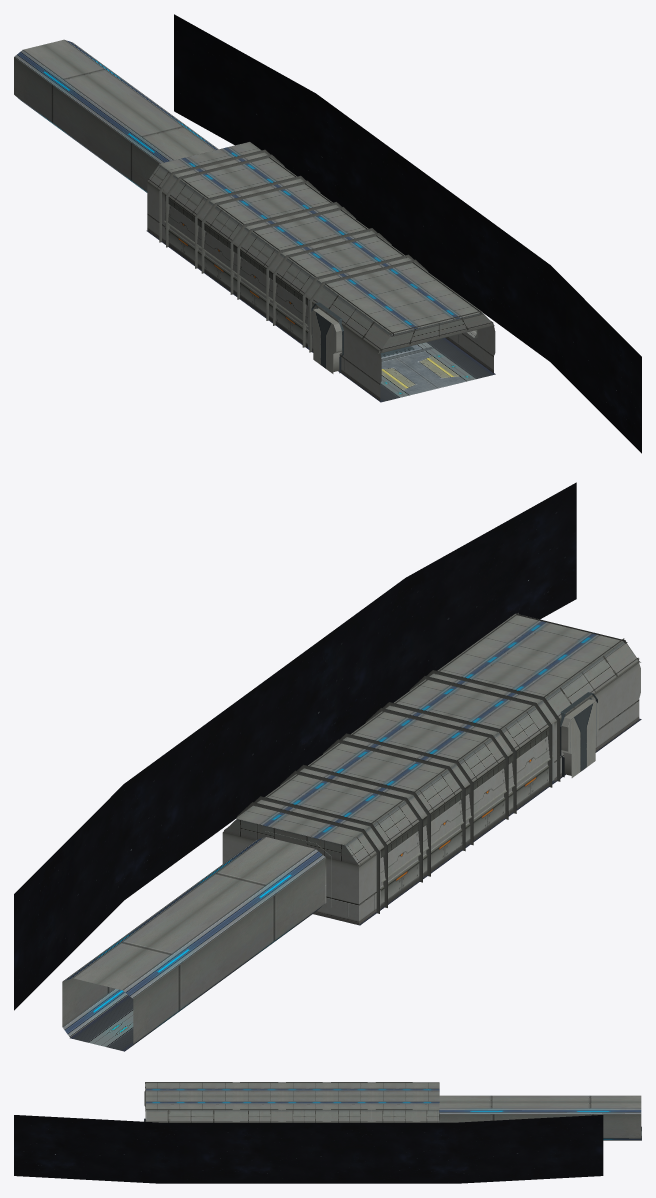
Rendered from ts_wszl001.FBX.
3 views of the same model, one above another, from view 1: azimuth 30°, elevation 25°; view 2: azimuth 150°, elevation 25°; view 3: azimuth 270°, elevation 25° (orthographic). The views are drawn at different scales.
Visible parts, largest first — view 1: ts_txzldb03, ts_txzldb06, ts_txzldb05, ts_txzldb01, ts_txzldb04; view 2: ts_txzldb03, ts_txzldb06, ts_txzldb05, ts_txzldb04, ts_txzldb02; view 3: ts_txzldb06, ts_txzldb03.
Boxes of the visible parts, box(x1,y1,x2,y2) form: ts_txzldb03: box(14, 39, 495, 400); ts_txzldb06: box(174, 14, 641, 453); ts_txzldb05: box(159, 149, 477, 352); ts_txzldb01: box(146, 230, 495, 402); ts_txzldb04: box(310, 302, 343, 373); ts_txzldb03: box(62, 613, 640, 1049); ts_txzldb06: box(14, 482, 576, 1010); ts_txzldb05: box(237, 670, 560, 913); ts_txzldb04: box(560, 692, 598, 777); ts_txzldb02: box(70, 995, 133, 1051); ts_txzldb06: box(14, 1115, 603, 1183); ts_txzldb03: box(144, 1082, 641, 1140).
Size of the model in its own units: 14.35 by 7.1 by 66.12.
